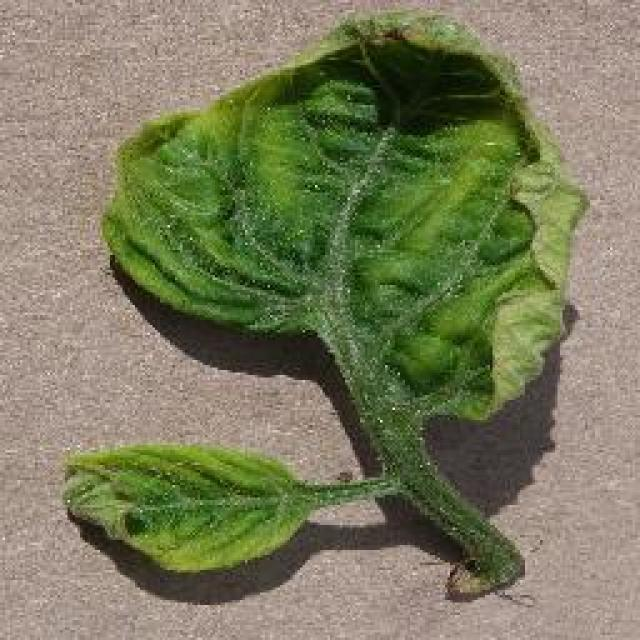Tomato yellow virus leaf: (107, 8, 589, 424), (59, 436, 309, 574)
